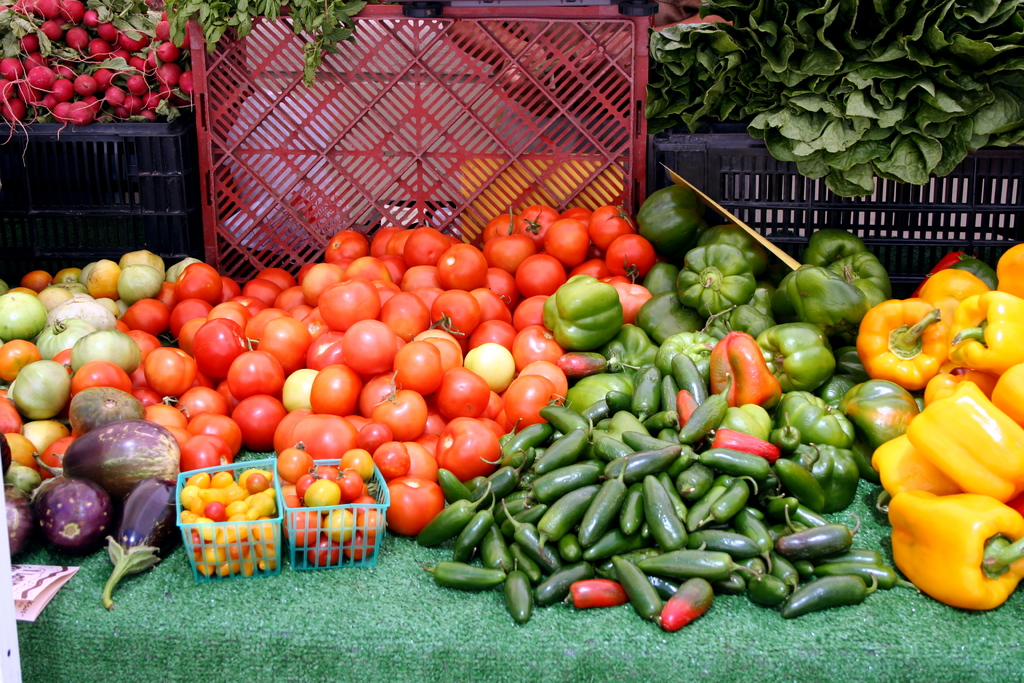Tomato: (131, 199, 672, 519), (512, 257, 562, 297)
